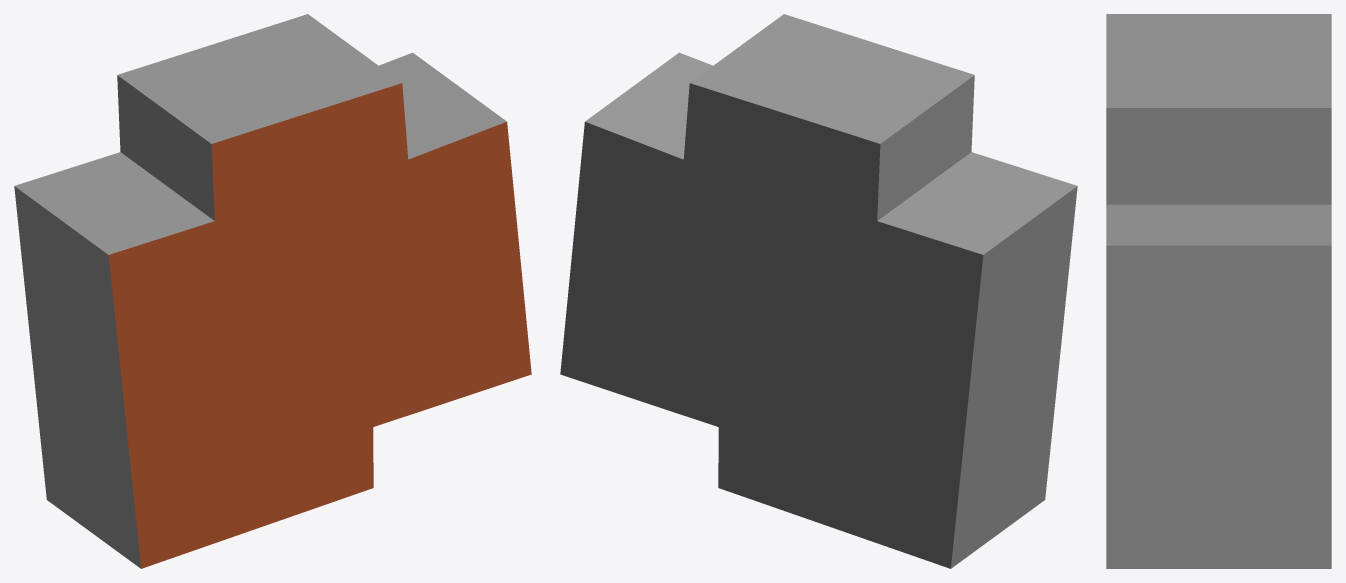
File: construction_3442_assumed_A_Casa_h6m.obj
3 renders of one model, left to right at view 1: azimuth 30°, elevation 25°; view 2: azimuth 150°, elevation 25°; view 3: azimuth 270°, elevation 25°, orthographic. The views are drawn at different scales.
Parts seen in each view (by area): view 1: construction_3442_assumed_A_Casa; view 2: construction_3442_assumed_A_Casa; view 3: construction_3442_assumed_A_Casa.
Part boxes in pixels (x1=…): construction_3442_assumed_A_Casa: x1=14, y1=14, x2=531, y2=568; construction_3442_assumed_A_Casa: x1=560, y1=14, x2=1077, y2=568; construction_3442_assumed_A_Casa: x1=1106, y1=14, x2=1331, y2=568.
Size of the model in its own units: 15.53 by 14.81 by 6.
